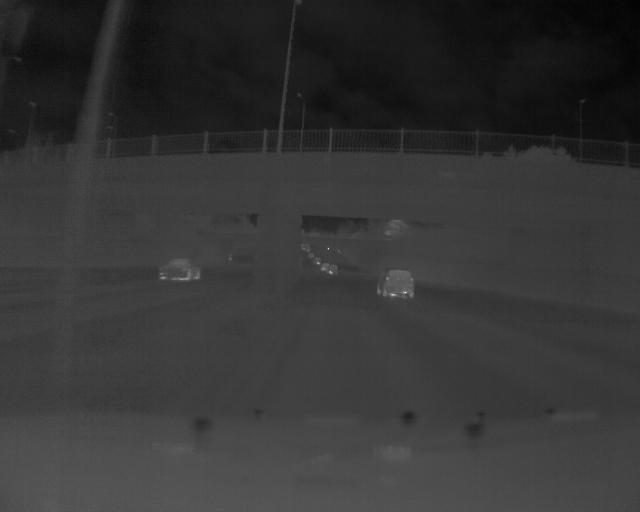car: (376, 268, 417, 301), (158, 255, 203, 285)
